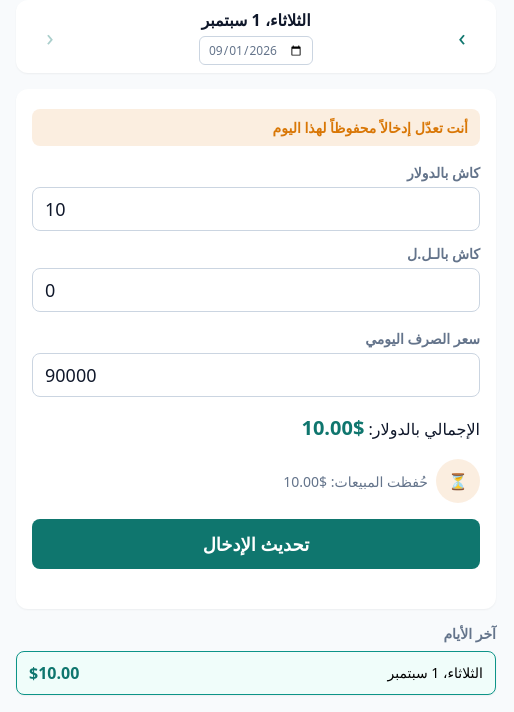
Test: <SalesView> › navigates to the previous day, shows an empty editor, and returns via history
Expected: the text "أنت تعدّل إدخالاً محفوظاً لهذا اليوم" is shown, [32,109,480,146]
Click the button with test id "sales-prev-day" at (462, 36), box [440,14,484,58]
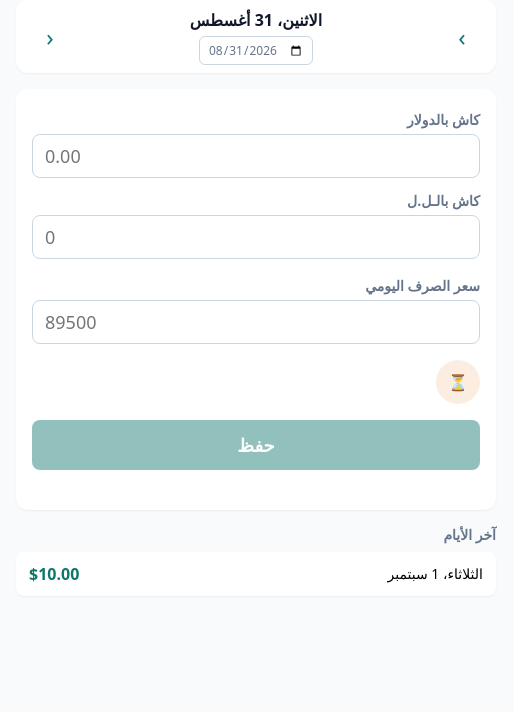
Click the 4th button at (409, 574), box [16,552,496,596]
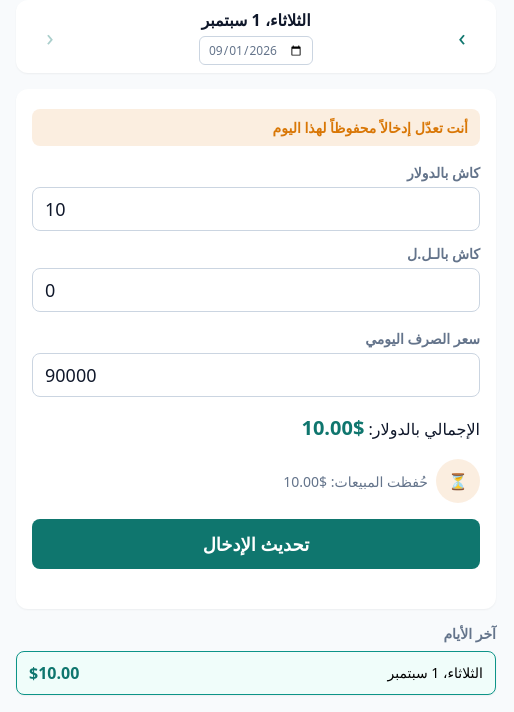
Expected: the text "أنت تعدّل إدخالاً محفوظاً لهذا اليوم" is shown, [32,109,480,146]
